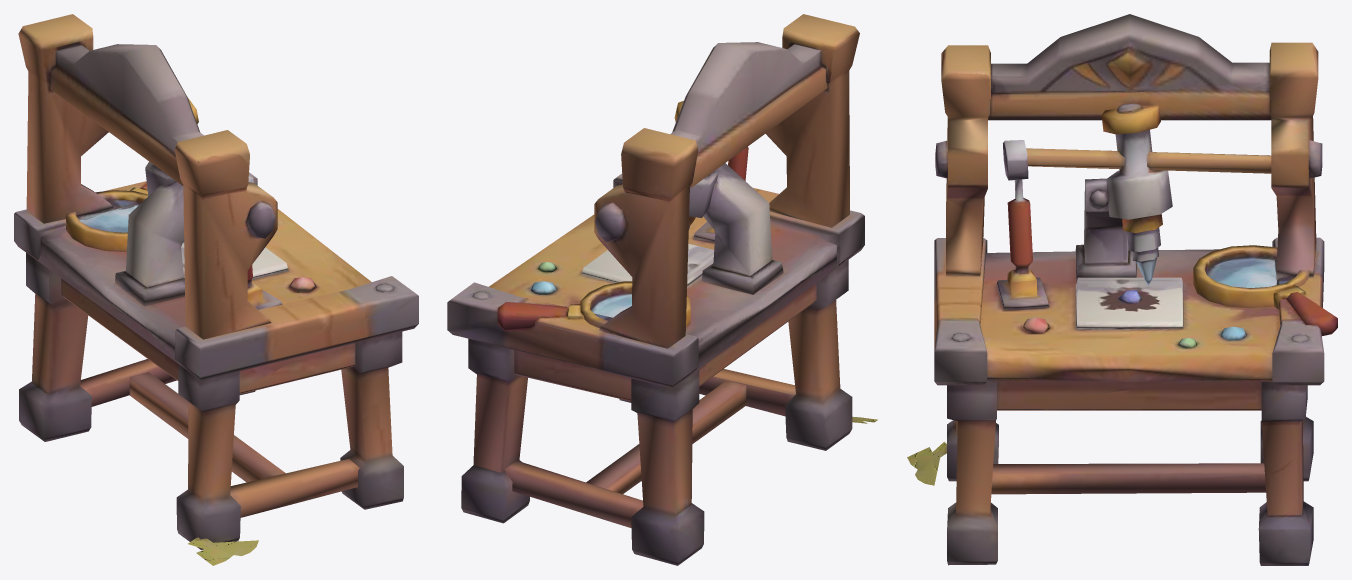
File: jewelcrafting_bench.glb
3 renders of one model, left to right at view 1: azimuth 30°, elevation 25°; view 2: azimuth 150°, elevation 25°; view 3: azimuth 270°, elevation 25°, orthographic. The views are drawn at different scales.
Parts seen in each view (by area): view 1: tripo_node_c5f29c10-0406-4879-9059-1f9c4c48cb6b; view 2: tripo_node_c5f29c10-0406-4879-9059-1f9c4c48cb6b; view 3: tripo_node_c5f29c10-0406-4879-9059-1f9c4c48cb6b.
Boxes of the visible parts, <box> form: tripo_node_c5f29c10-0406-4879-9059-1f9c4c48cb6b: <box>14,14,418,565</box>; tripo_node_c5f29c10-0406-4879-9059-1f9c4c48cb6b: <box>447,14,877,565</box>; tripo_node_c5f29c10-0406-4879-9059-1f9c4c48cb6b: <box>907,14,1337,565</box>.
Size of the model in its own units: 0.4949 by 0.9 by 0.7767.
Materials: 1 (1 with a texture image).
